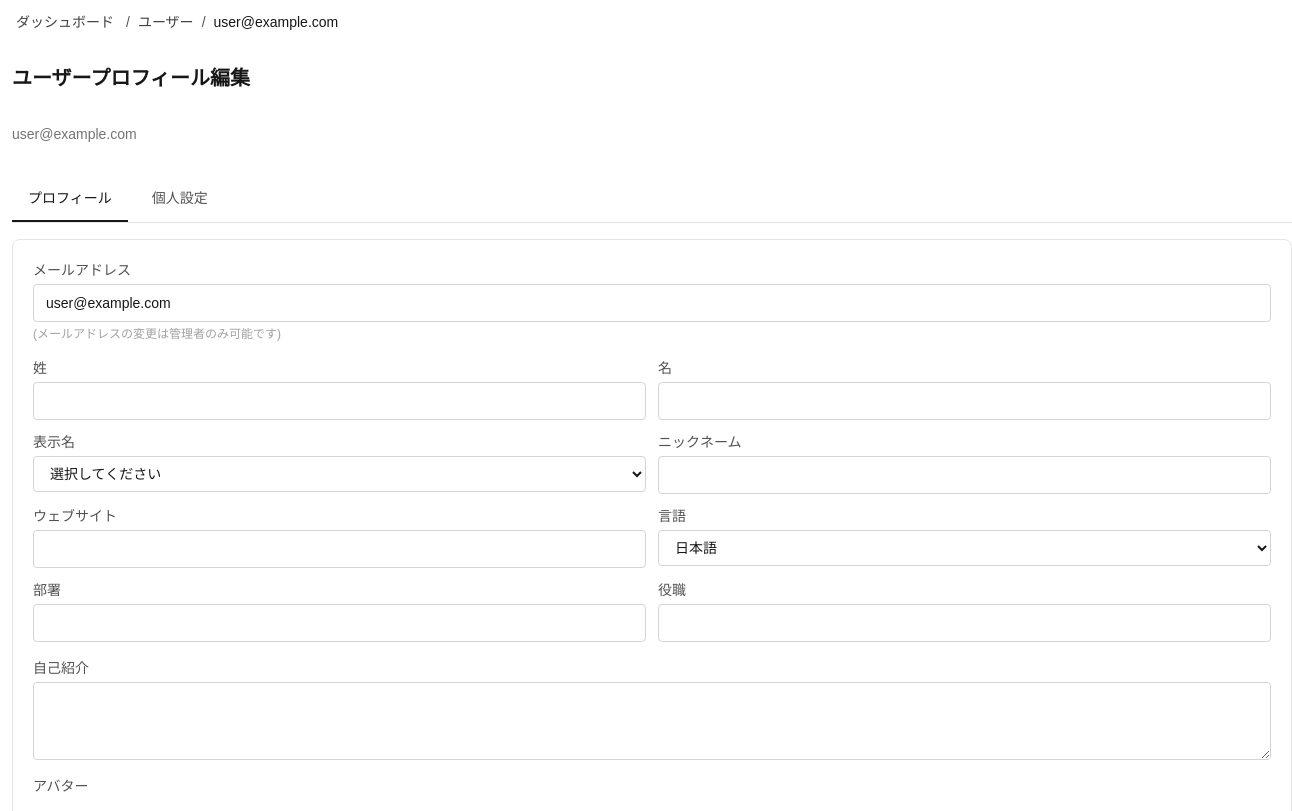
Test: /users/[id]/edit の個人設定タブ(issue #1259) › timezoneに値があればその値が選択されている(Asia/Tokyoへのフォールバックはしない)
Click the button "個人設定" at (180,199), box [136,176,224,222]
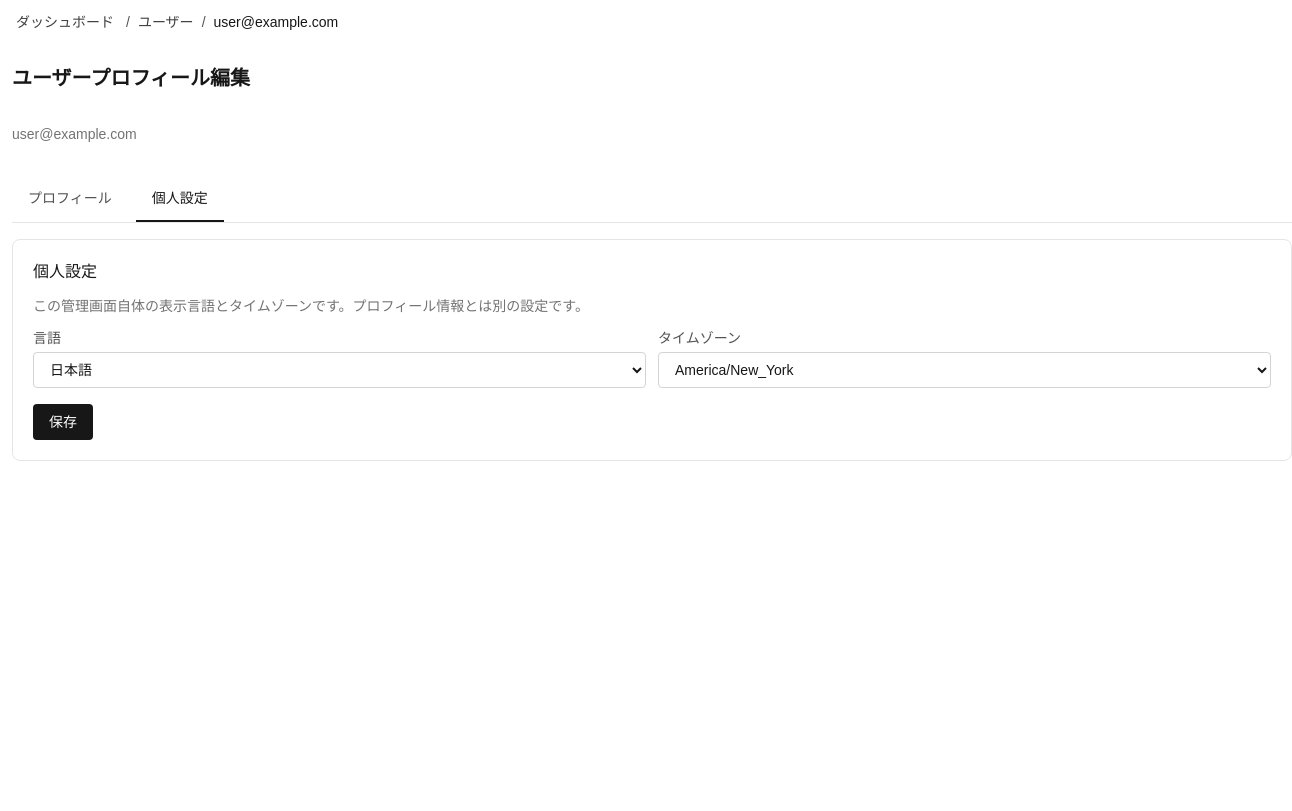
Result: the dropdown with test id "timezone-select" shows "America/New_York" at [658,352,1271,388]
